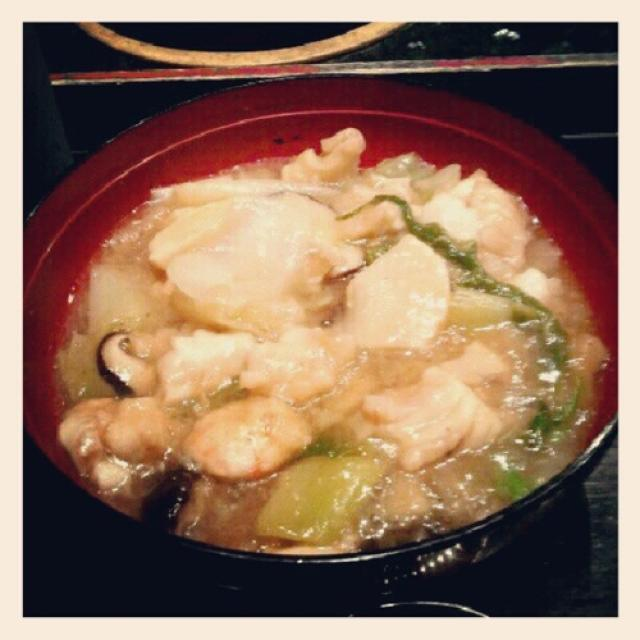汤锅炖物: (13, 130, 615, 534)
